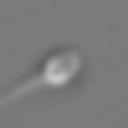normal: (1, 73, 45, 111)
